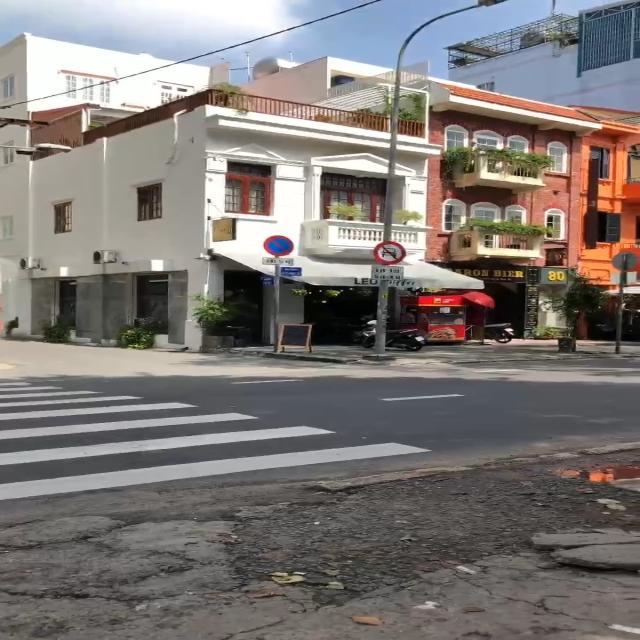Bien bao cam do xe: (262, 235, 294, 258)
Bien bao cam xe oto: (373, 240, 407, 264)
